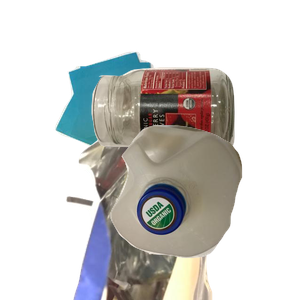glass: (89, 65, 300, 212)
paper: (52, 49, 209, 198)
plastic: (108, 123, 300, 300)
trash: (63, 120, 300, 300)
